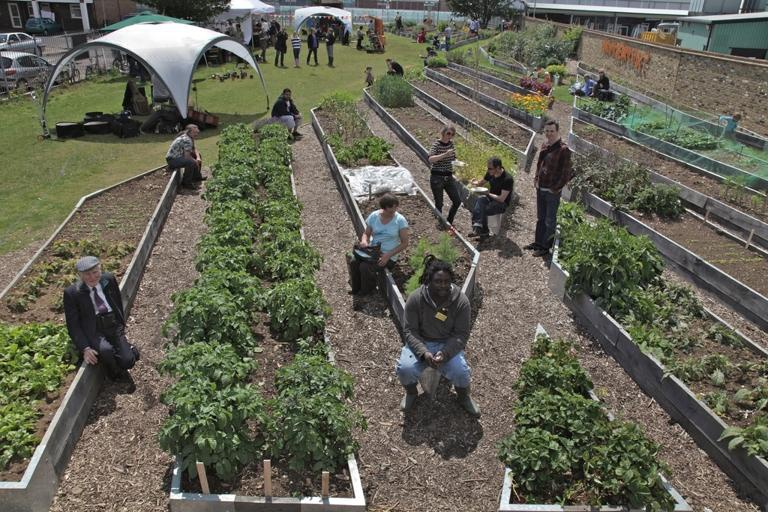non-vehicle: (84, 54, 103, 79), (63, 60, 81, 86), (112, 52, 129, 71)
